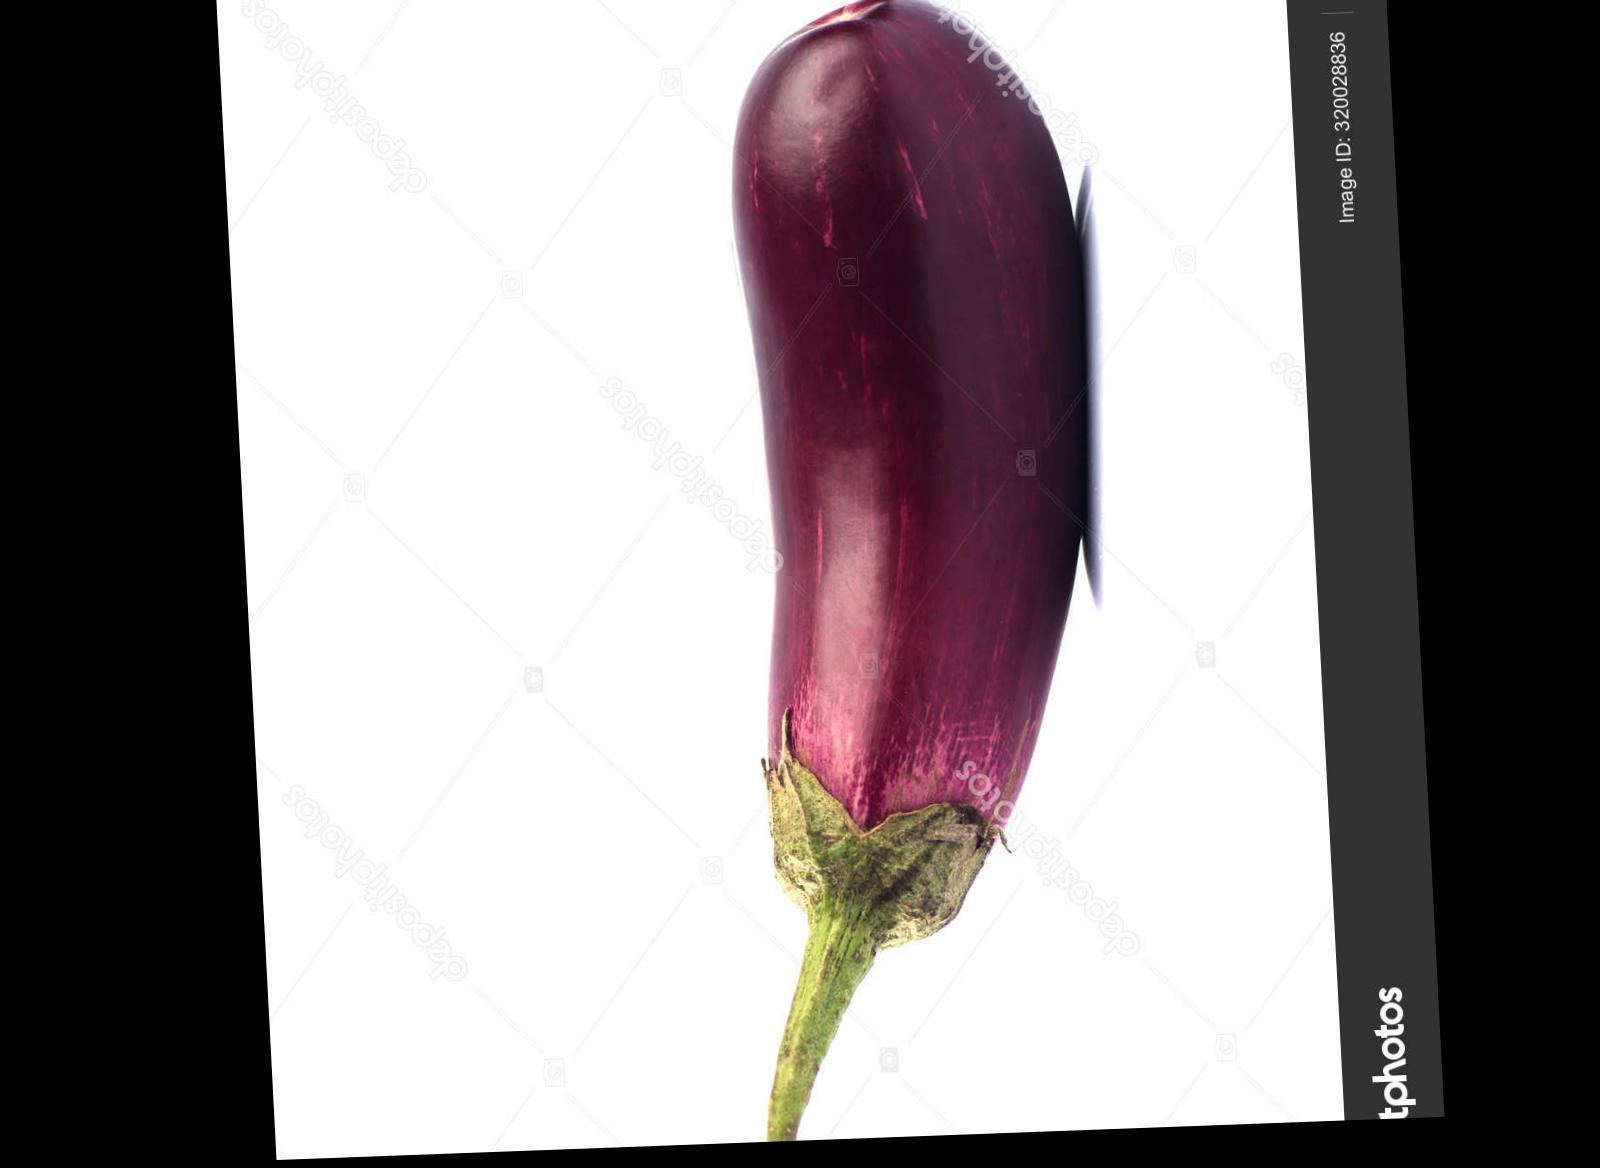eggplant: (668, 0, 1158, 1148)
